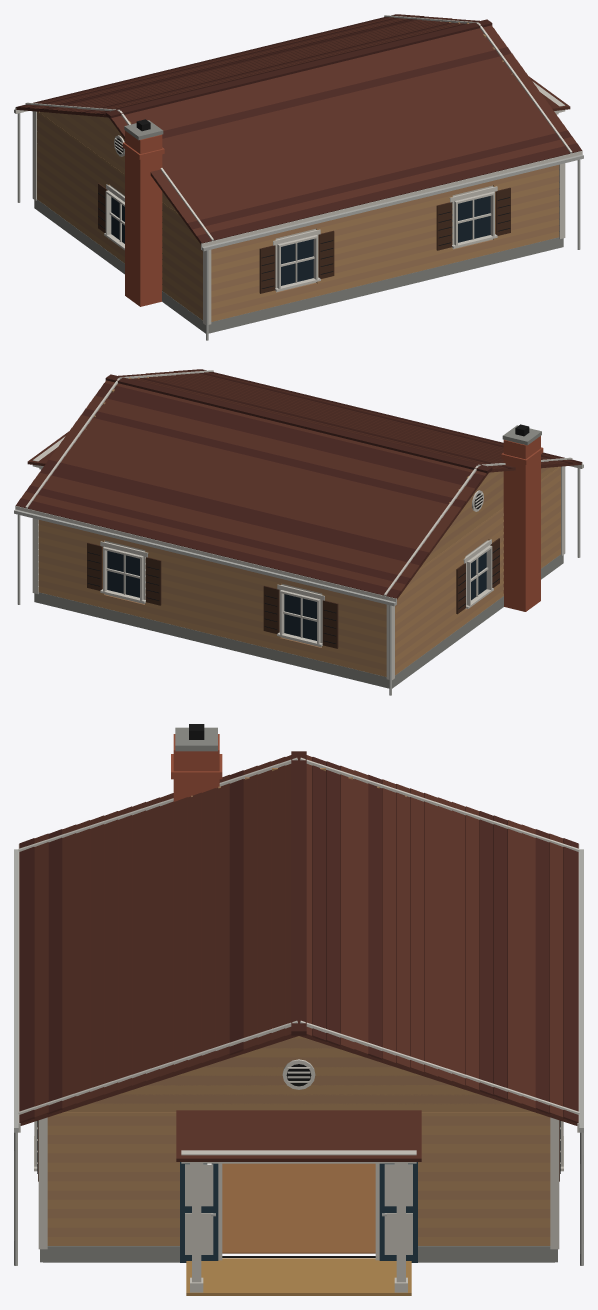
File: house-terracotta.glb
3 renders of one model, top to bottom at view 1: azimuth 30°, elevation 25°; view 2: azimuth 150°, elevation 25°; view 3: azimuth 270°, elevation 25°, orthographic. The views are drawn at different scales.
Parts seen in each view (by area): view 1: house-terracotta; view 2: house-terracotta; view 3: house-terracotta.
Boxes of the visible parts, box(x1,y1,x2,y2) form: house-terracotta: box(14, 14, 583, 340); house-terracotta: box(14, 369, 583, 695); house-terracotta: box(14, 724, 583, 1295).
Bounding box in the file's own units: 14.67 × 5.72 × 11.14.
